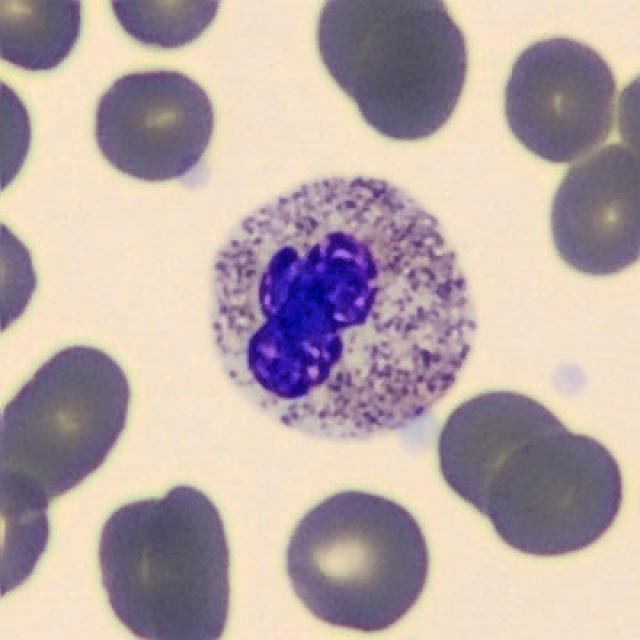Neutrofilo segmentado: (213, 180, 475, 436)
